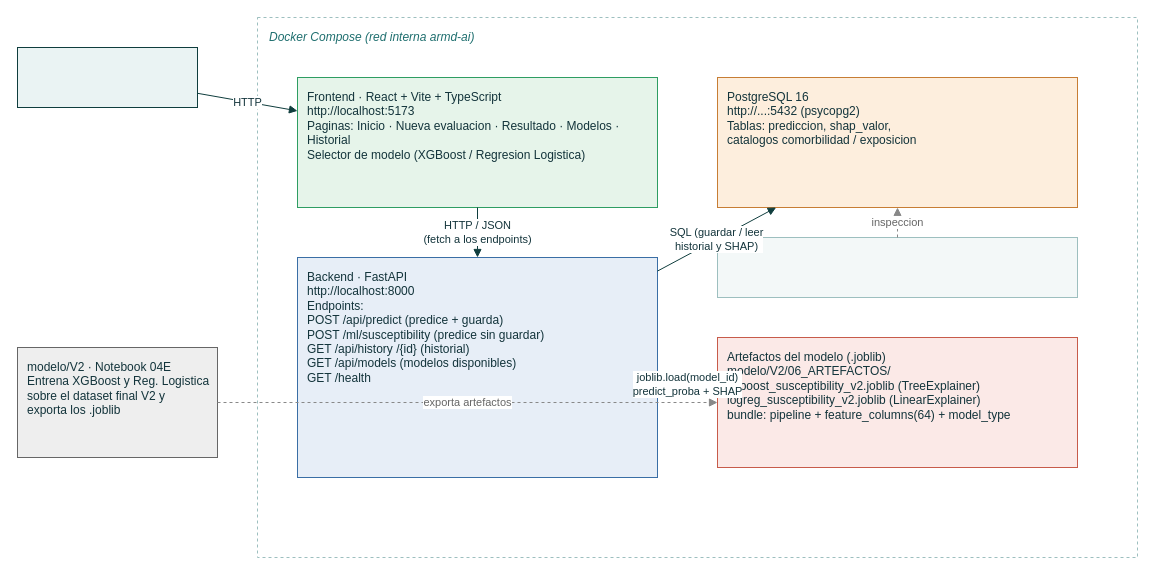
Image size: 1155x575. Some labels were removed from this diagram. Here are the shapes that lost their labels. From the top down, the box of each, then its label:
(16, 46, 198, 108): Usuario / Navegador (medico)
(716, 236, 1078, 298): Adminer · UI de BD http://localhost:8080
